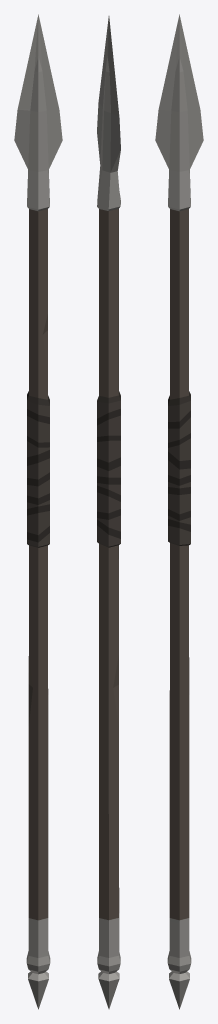
Rendered from ancient_SM_Wep_Spear_01.gltf.
3 views of the same model, side by side, from view 1: azimuth 90°, elevation 25°; view 2: azimuth 210°, elevation 25°; view 3: azimuth 270°, elevation 25° (orthographic).
Parts seen in each view (by area): view 1: SM_Wep_Spear_01; view 2: SM_Wep_Spear_01; view 3: SM_Wep_Spear_01.
Part boxes in pixels (box(x1,y1,x2,y2)): SM_Wep_Spear_01: box(14, 14, 62, 1009); SM_Wep_Spear_01: box(97, 16, 120, 1009); SM_Wep_Spear_01: box(155, 14, 203, 1009).
Size of the model in its own units: 0.0531 by 2.1 by 0.0923.
Materials: 1 (1 with a texture image).
